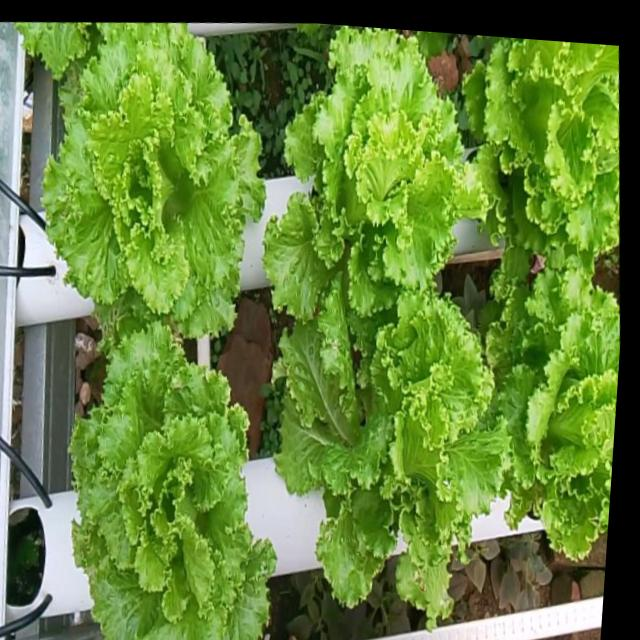Mature: (277, 298, 511, 640), (34, 22, 269, 343), (267, 28, 491, 324), (71, 323, 279, 640), (469, 37, 619, 293), (491, 275, 619, 569)
